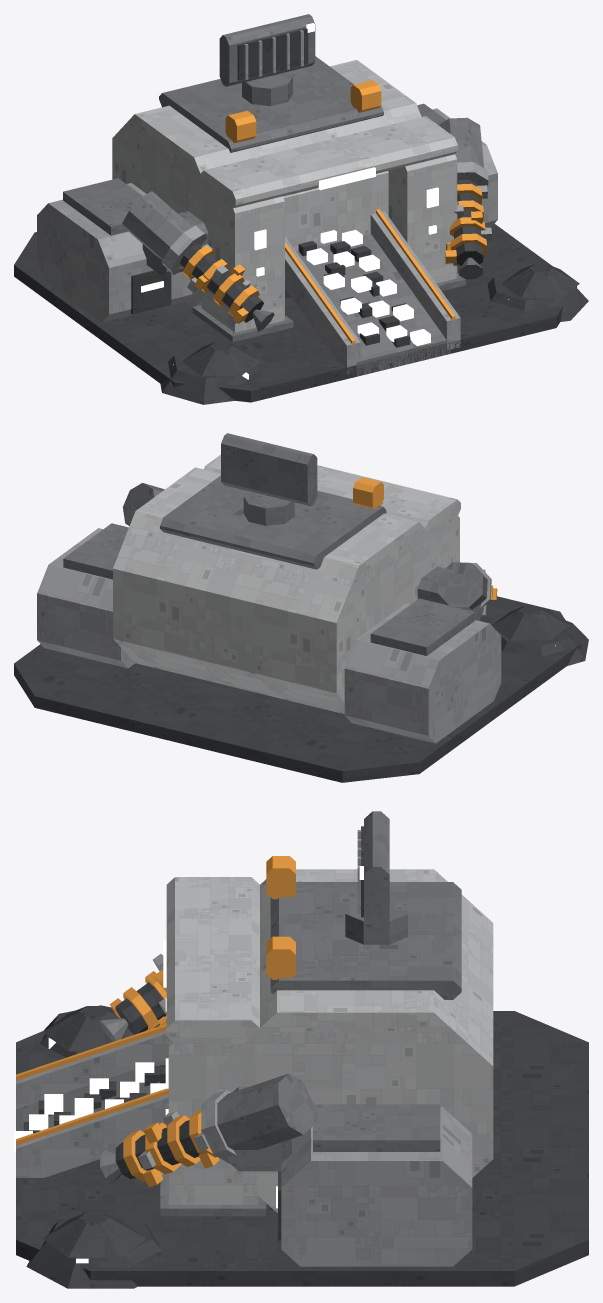
File: rig_auger_lod0.glb
The picture shows the model from 3 angles, top to bottom: view 1: azimuth 30°, elevation 25°; view 2: azimuth 150°, elevation 25°; view 3: azimuth 270°, elevation 25°; orthographic projection. The views are drawn at different scales.
Visible parts, largest first — view 1: rig_auger_base_body, rig_auger_radar_body, rig_auger_ore_glow, rig_auger_base_trim, rig_auger_auger_l_body, rig_auger_auger_l_trim, rig_auger_auger_r_body, rig_auger_auger_r_trim, rig_auger_base_glow; view 2: rig_auger_base_body, rig_auger_radar_body, rig_auger_base_trim; view 3: rig_auger_base_body, rig_auger_base_trim, rig_auger_radar_body, rig_auger_auger_r_trim, rig_auger_ore_glow, rig_auger_auger_r_body, rig_auger_auger_l_body, rig_auger_auger_l_trim.
Boxes of the visible parts, box(x1,y1,x2,y2) form: rig_auger_base_body: box(14, 56, 588, 404); rig_auger_radar_body: box(219, 14, 315, 86); rig_auger_ore_glow: box(306, 230, 430, 345); rig_auger_base_trim: box(225, 80, 455, 344); rig_auger_auger_l_body: box(180, 243, 274, 331); rig_auger_auger_l_trim: box(183, 245, 259, 323); rig_auger_auger_r_body: box(453, 179, 491, 279); rig_auger_auger_r_trim: box(445, 183, 486, 263); rig_auger_base_glow: box(141, 167, 508, 379); rig_auger_base_body: box(14, 454, 588, 782); rig_auger_radar_body: box(221, 433, 317, 506); rig_auger_base_trim: box(353, 477, 383, 508); rig_auger_base_body: box(16, 869, 588, 1288); rig_auger_base_trim: box(16, 856, 295, 1174); rig_auger_radar_body: box(357, 811, 389, 932); rig_auger_auger_r_trim: box(123, 1109, 219, 1187); rig_auger_ore_glow: box(14, 1062, 165, 1151); rig_auger_auger_r_body: box(100, 1111, 209, 1182); rig_auger_auger_l_body: box(100, 954, 166, 1041); rig_auger_auger_l_trim: box(109, 970, 166, 1030).
Size of the model in its own units: 2.98 by 1.65 by 2.71.
3 materials, 1 textured.
